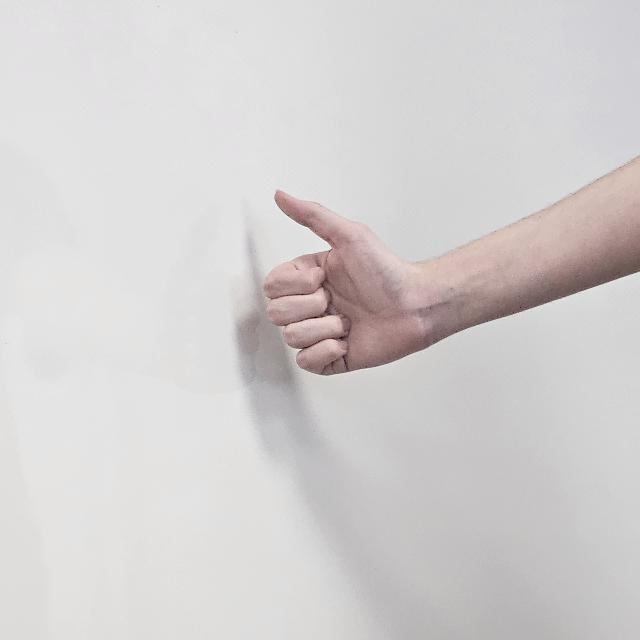Start: (265, 188, 465, 390)
